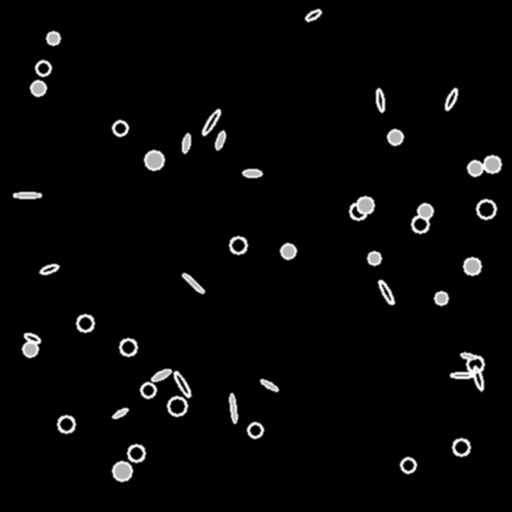pseudomonas: (201, 108, 221, 136), (172, 370, 192, 398), (181, 272, 205, 294), (377, 279, 395, 305), (443, 87, 459, 111), (471, 365, 485, 391), (150, 367, 172, 383), (260, 378, 278, 392), (304, 8, 322, 22), (39, 263, 59, 275), (229, 394, 237, 422), (375, 89, 385, 111), (23, 332, 41, 344), (214, 131, 226, 149), (112, 407, 128, 419), (181, 134, 191, 152), (243, 169, 261, 177), (451, 372, 474, 378), (14, 192, 40, 197), (460, 352, 476, 360)
synechocystis: (477, 200, 495, 218), (168, 397, 186, 415), (113, 462, 131, 480), (145, 151, 163, 169), (412, 216, 428, 232), (77, 315, 93, 331), (467, 356, 483, 372), (350, 203, 366, 219), (230, 237, 246, 253), (120, 339, 136, 355), (484, 156, 500, 172), (464, 258, 480, 274), (453, 439, 469, 455), (58, 416, 74, 432), (128, 445, 144, 461), (357, 197, 373, 213), (248, 423, 262, 437), (23, 342, 37, 356), (418, 204, 432, 218), (388, 130, 402, 144), (36, 61, 50, 75), (141, 383, 155, 397), (31, 81, 45, 95), (113, 121, 127, 135), (401, 458, 415, 472), (468, 161, 482, 175), (281, 244, 295, 258), (435, 292, 447, 304), (47, 32, 59, 44), (368, 252, 380, 264)
